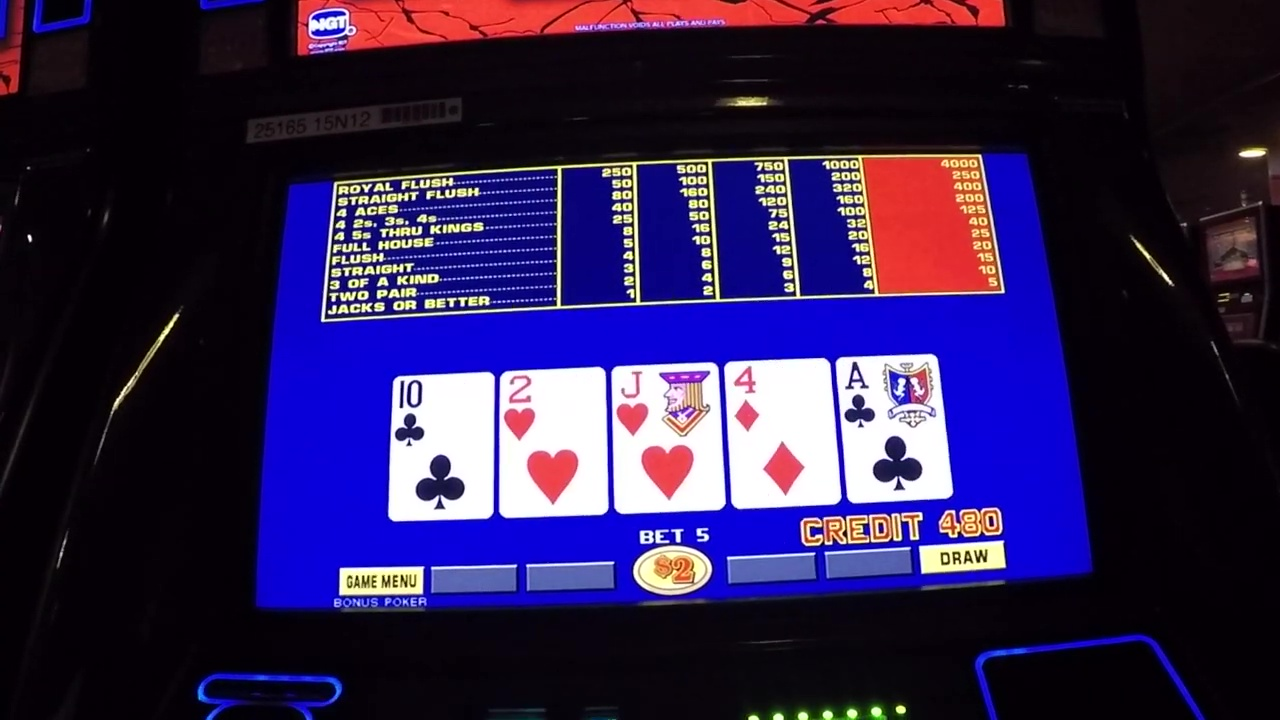CA: (842, 361, 938, 427)
CT: (393, 377, 493, 448)
D4: (729, 365, 831, 433)
H2: (502, 370, 607, 451)
HJ: (613, 364, 718, 436)
